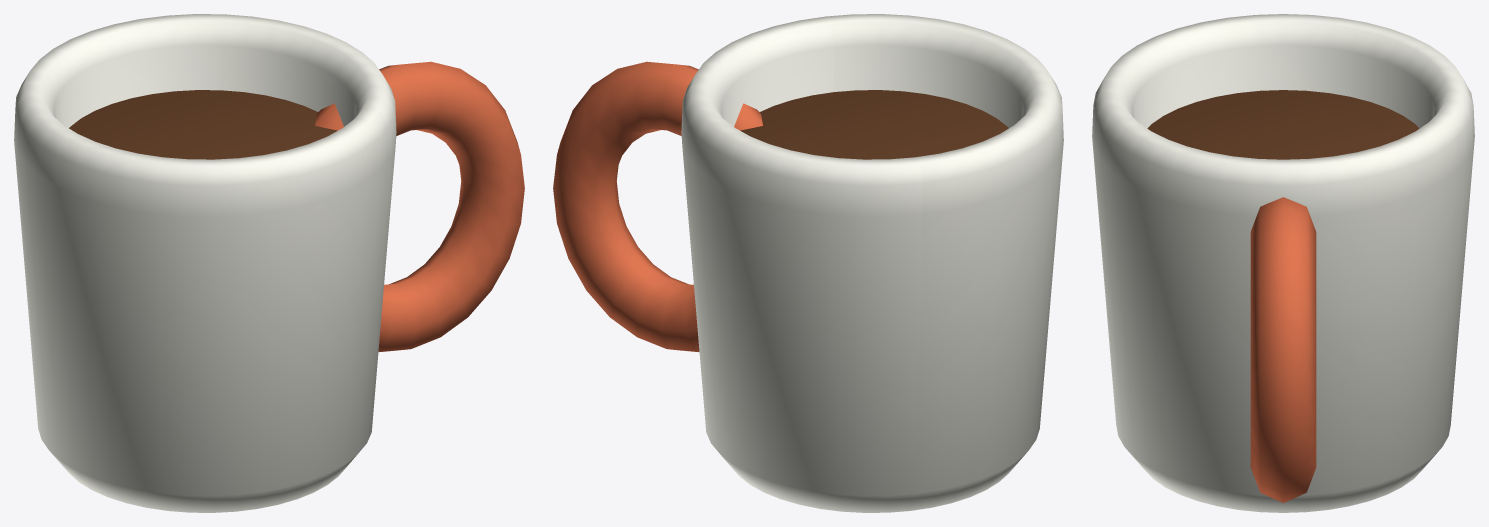
The model's file is mug.glb.
3 renders of one model, left to right at view 1: azimuth 30°, elevation 25°; view 2: azimuth 150°, elevation 25°; view 3: azimuth 270°, elevation 25°, orthographic.
Parts seen in each view (by area): view 1: Mug glazed bowl, Mug handle, Coffee; view 2: Mug glazed bowl, Mug handle, Coffee; view 3: Mug glazed bowl, Mug handle, Coffee.
Part boxes in pixels (x1,y1,x2,y2): Mug glazed bowl: (14, 14, 396, 512); Mug handle: (315, 61, 524, 352); Coffee: (69, 90, 337, 159); Mug glazed bowl: (681, 14, 1063, 512); Mug handle: (553, 61, 762, 352); Coffee: (740, 90, 1008, 159); Mug glazed bowl: (1092, 14, 1474, 512); Mug handle: (1250, 197, 1316, 502); Coffee: (1147, 90, 1419, 159).
Size of the model in its own units: 0.439 by 0.314 by 0.302.
3 materials, 2 textured.
